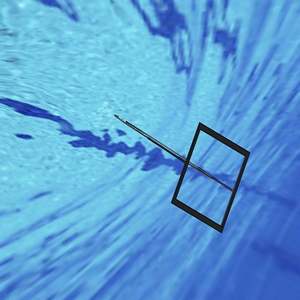circle: (109, 112, 252, 234)
